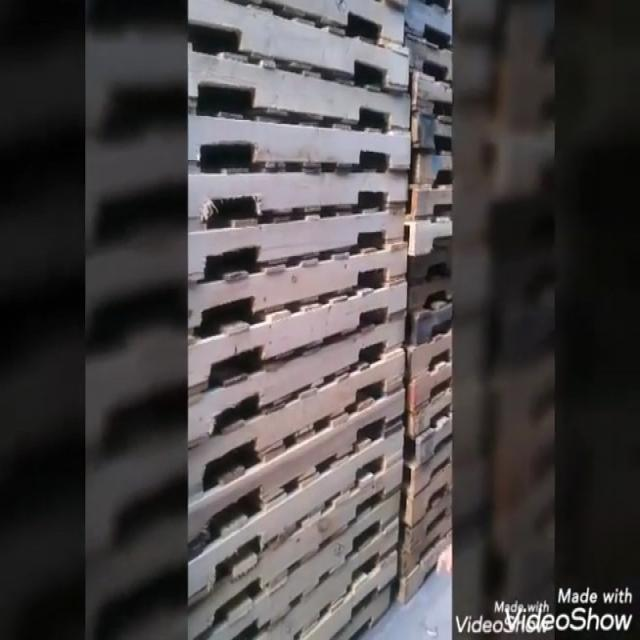Palette: (190, 0, 406, 640), (402, 0, 448, 607)
